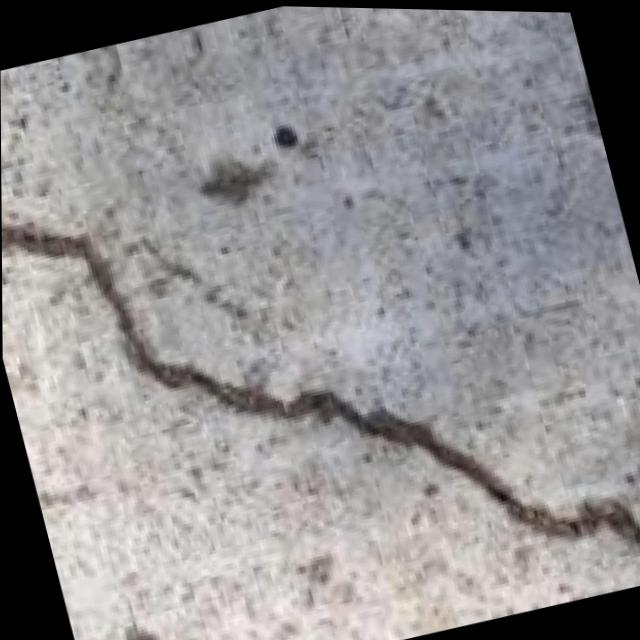Crack: (0, 21, 640, 640)
